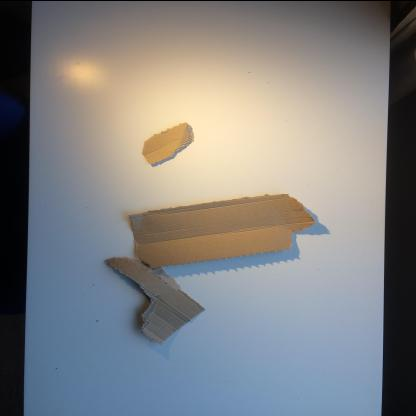karton: (128, 192, 316, 268), (102, 256, 206, 344), (141, 120, 195, 164)
